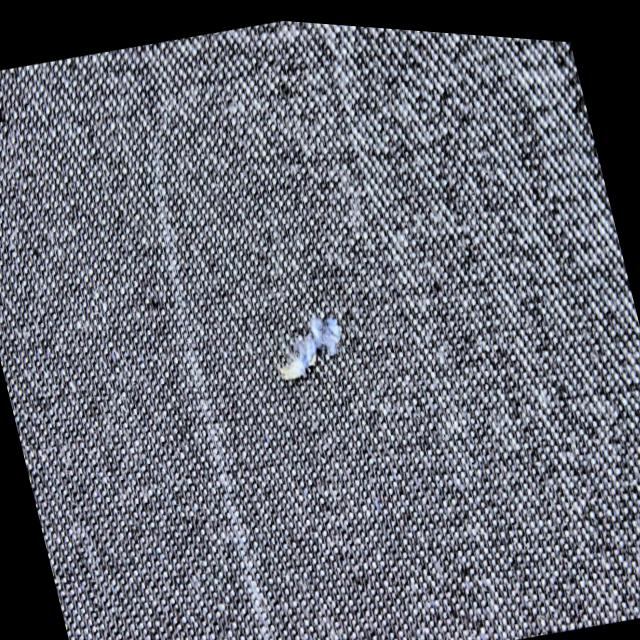Hole: (278, 308, 343, 384)
